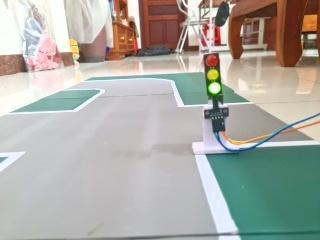green: (199, 47, 228, 104)
